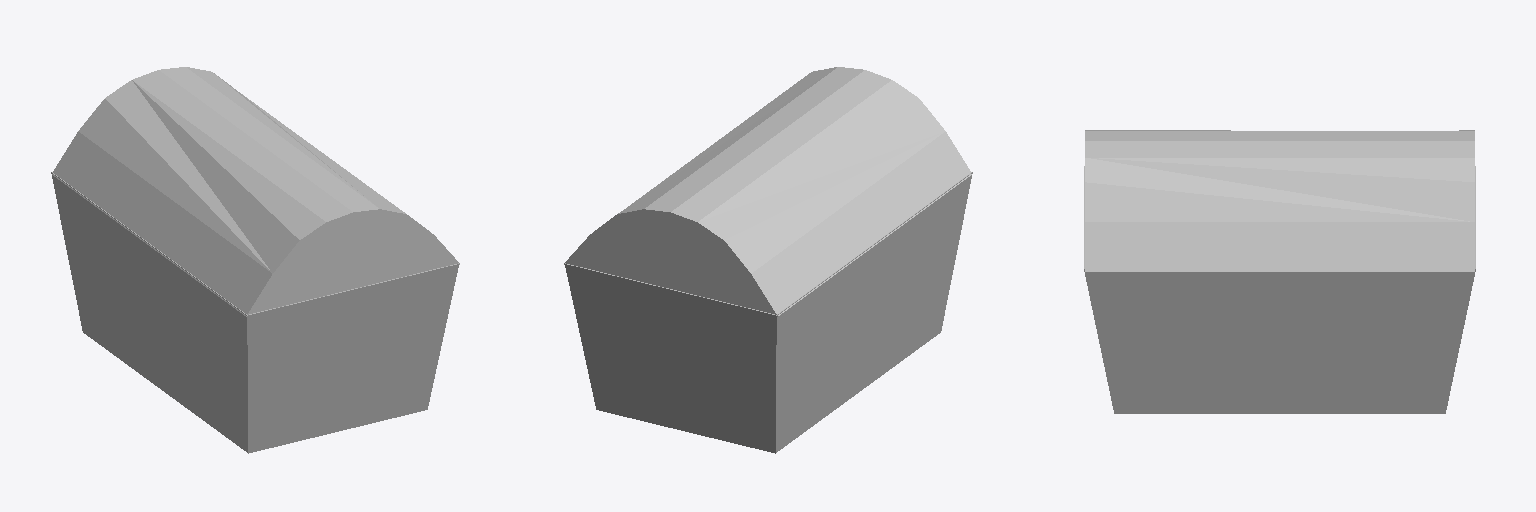
Rendered from boxclosed.obj.
3 views of the same model, side by side, from view 1: azimuth 30°, elevation 25°; view 2: azimuth 150°, elevation 25°; view 3: azimuth 270°, elevation 25° (orthographic).
Visible parts, largest first — view 1: Plane_003, Cube_003; view 2: Plane_003, Cube_003; view 3: Plane_003, Cube_003.
Part boxes in pixels (bbox=[...]): Plane_003: bbox=[52, 67, 459, 316]; Cube_003: bbox=[51, 172, 458, 453]; Plane_003: bbox=[564, 67, 971, 316]; Cube_003: bbox=[565, 172, 972, 453]; Plane_003: bbox=[1085, 130, 1474, 271]; Cube_003: bbox=[1084, 166, 1475, 413].
Bounding box in the file's own units: 2.36 × 2.42 × 3.74.